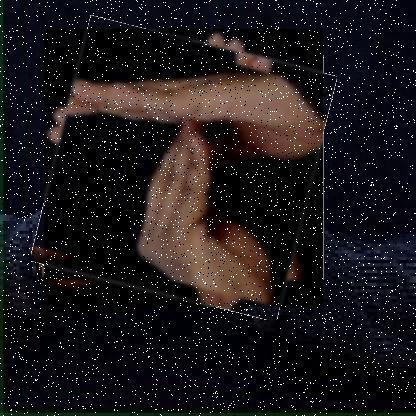Z: (43, 29, 323, 308)
